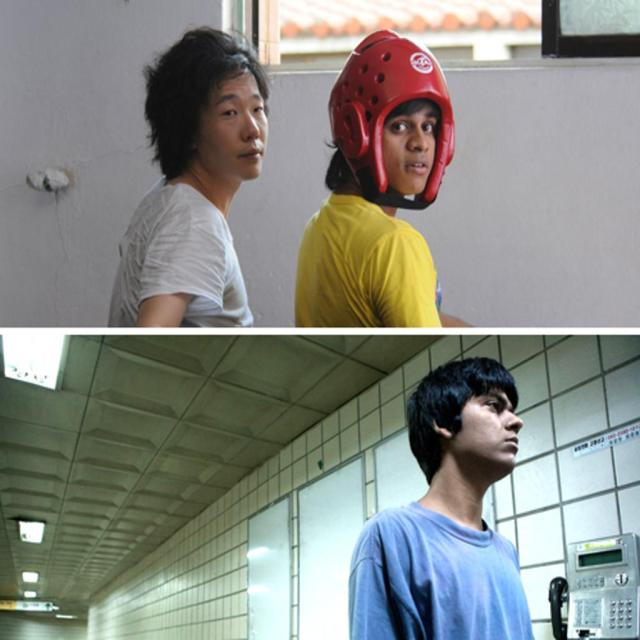Face: (206, 58, 282, 194), (375, 90, 452, 201), (463, 379, 525, 483)
